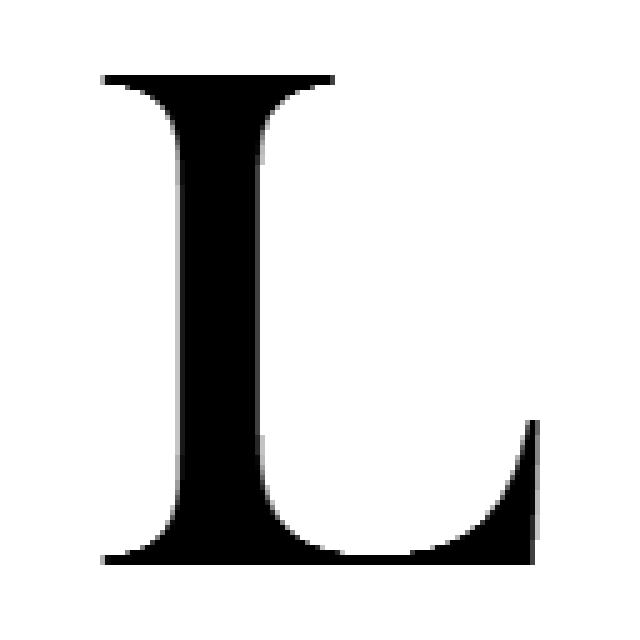L: (99, 62, 543, 570)
